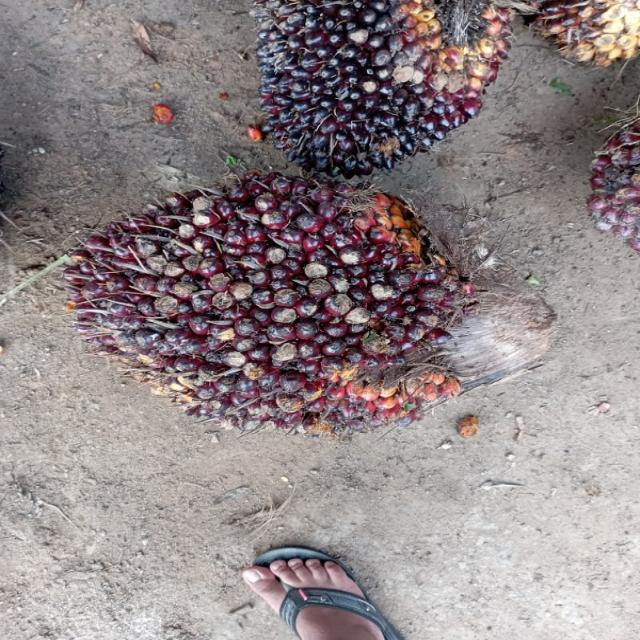fraksi 1: (30, 163, 491, 502)
